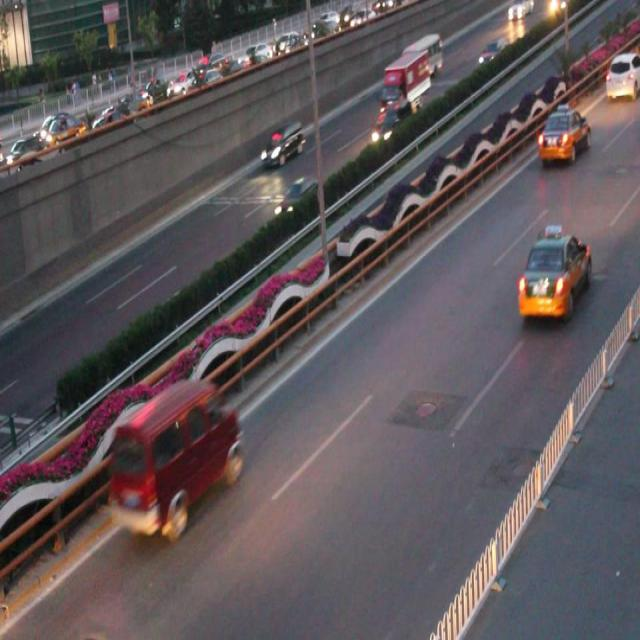bus: (383, 50, 431, 103)
car: (517, 223, 590, 322), (534, 107, 588, 161), (369, 95, 418, 147), (273, 176, 322, 222)
truck: (111, 384, 242, 538), (260, 122, 306, 164)
